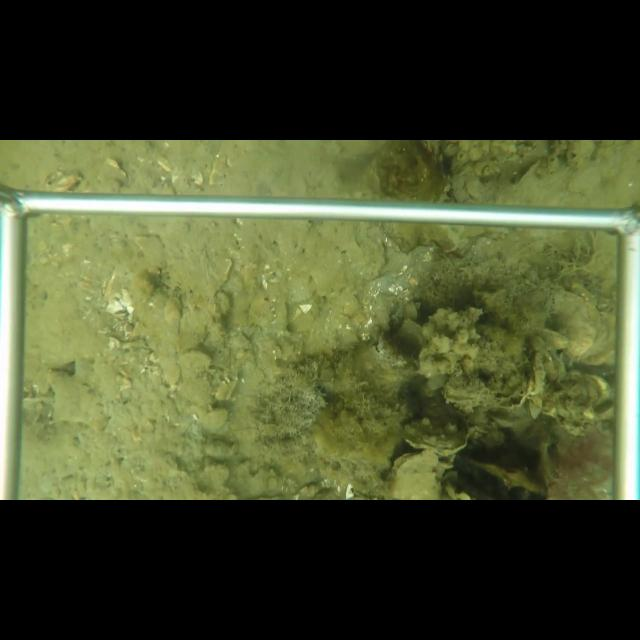Oyster-Closed: (544, 287, 601, 365), (383, 450, 446, 499), (400, 413, 471, 456), (511, 157, 542, 190)
Oyster-Open: (371, 330, 409, 373)
